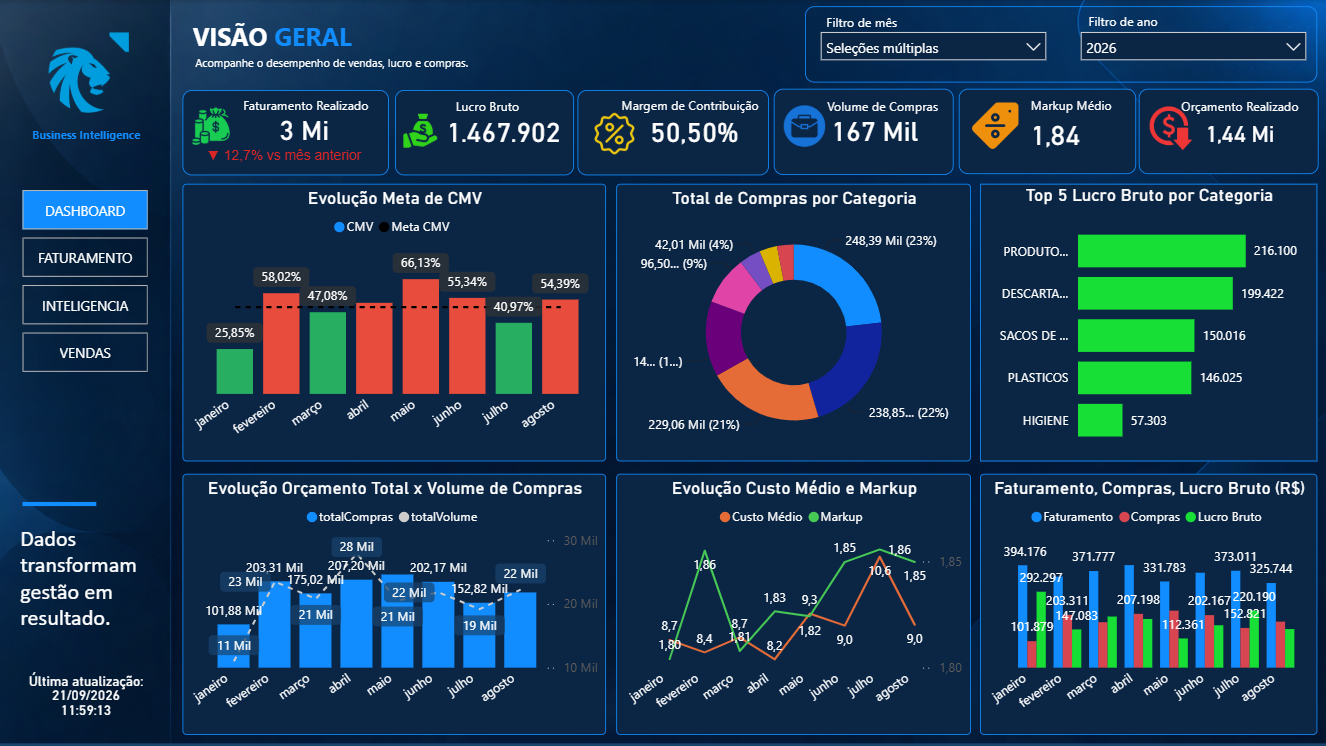

The page's visual inventory and layout, read from the dashboard file:
{"tool":"powerbi","page":{"name":"DASHBOARD","canvas":[1280,720],"ordinal":0},"visuals":[{"type":"textbox","box":[776.9,5.8,494.6,73.6],"z":0},{"type":"textbox","box":[1099.3,85.7,173.7,82],"z":1000},{"type":"textbox","box":[746.2,85.7,173.7,83.2],"z":2000},{"type":"card","title":"Volume (Kg)","fields":{"Values":["medidasCompras.totalVolume"]},"box":[760.2,102.3,168.9,47.1],"z":3000},{"type":"image","box":[755.9,93.1,39.8,57.9],"z":4000},{"type":"textbox","box":[780,88.1,146,36.2],"z":5000},{"type":"textbox","box":[176.1,86.9,199.1,82],"z":6000},{"type":"card","title":"Total Spent","fields":{"Values":["medidasCompras.totalCompras"]},"box":[1130.6,101.3,132.7,55.5],"z":7000},{"type":"textbox","box":[1130.6,88.1,132.7,36.2],"z":8000},{"type":"lineClusteredColumnComboChart","title":"Evolução Meta de CMV","fields":{"Category":["Calendario.Nome do Mês"],"Y":["medidasResultado.CMV"],"Y2":["medidasResultado.Meta CMV"]},"box":[176.1,177.3,409,267.8],"z":9000},{"type":"lineClusteredColumnComboChart","title":"Evolução Orçamento Total x Volume de Compras","fields":{"Category":["Calendario.Nome do Mês"],"Y":["medidasCompras.totalCompras"],"Y2":["medidasCompras.totalVolume"]},"box":[176.1,457.2,409,252.1],"z":10000},{"type":"lineChart","title":"Evolução Custo Médio e Markup","fields":{"Category":["Calendario.Nome do Mês"],"Y":["medidasCompras.preçoMedioCompra"],"Y2":["medidasCompras.markup"]},"box":[594.8,457.2,342.6,252.1],"z":11000},{"type":"donutChart","title":"Total de Compras por Categoria","fields":{"Category":["Compras.Categoria"],"Y":["medidasCompras.totalCompras"]},"box":[594.8,177.3,342.6,267.8],"z":12000},{"type":"card","title":"Total Spent","fields":{"Values":["medidasFaturamento.faturamentoLiquido"]},"box":[212.2,96,163,56.4],"z":13000},{"type":"textbox","box":[208.1,86.3,173,32.6],"z":14000},{"type":"image","box":[1100.5,101.3,59.1,44.6],"z":15000},{"type":"textbox","box":[924.8,85.7,171.3,82],"z":16000},{"type":"card","title":"Total Spent","fields":{"Values":["medidasCompras.markup"]},"box":[937.6,106.2,162.9,45.8],"z":17000},{"type":"textbox","box":[973.1,86.9,120.6,36.2],"z":18000},{"type":"image","box":[932.1,98.9,55.5,44.6],"z":19000},{"type":"textbox","box":[381.2,86.9,172.5,82],"z":20000},{"type":"card","title":"Total de Fornecedores","fields":{"Values":["medidasResultado.margemContribuiçao"]},"box":[418.8,101.3,135.1,50.7],"z":21000},{"type":"textbox","box":[401.9,88.4,137.5,35],"z":22000},{"type":"textbox","box":[557.7,87.2,184.6,82],"z":23000},{"type":"card","title":"Volume (Kg)","fields":{"Values":["medidasResultado.percentContribuicao"]},"box":[594.4,99.2,150.8,55.5],"z":24000},{"type":"image","box":[572.7,100.4,39.8,57.9],"z":25000},{"type":"textbox","box":[593.8,86.3,148.4,36.2],"z":26000},{"type":"image","box":[176.1,103.8,55.5,36.2],"z":27000},{"type":"card","title":"Total Spent","fields":{"Values":["medidasFaturamento.Card Crescimento Faturamento"]},"box":[173.1,136.2,203.1,31.3],"z":28000},{"type":"image","box":[381.2,109.8,48.3,32.6],"z":29000},{"type":"textbox","box":[181,14.5,220.8,53.1],"z":30000},{"type":"textbox","box":[183.4,45.8,287.1,39.8],"z":31000},{"type":"clusteredBarChart","title":"Top 5 Lucro Bruto por Categoria","fields":{"Category":["Faturamento.Categoria"],"Y":["Sum(Faturamento.LucroLinha)"]},"box":[945.8,177.3,325.7,267.8],"z":32000},{"type":"clusteredColumnChart","title":"Faturamento, Compras, Lucro Bruto (R$)","fields":{"Category":["Calendario.Nome do Mês"],"Y":["medidasFaturamento.faturamentoLiquido","medidasCompras.totalCompras","medidasResultado.margemContribuiçao"]},"box":[945.8,457.2,325.7,252.1],"z":33000},{"type":"slicer","fields":{"Values":["Calendario.Ano"]},"box":[1032.7,20.3,238.2,49.2],"z":34000},{"type":"slicer","fields":{"Values":["Calendario.Nome do Mês"]},"box":[781.8,20.3,238.2,49.2],"z":35000},{"type":"textbox","box":[776.9,7,109.8,37.4],"z":36000},{"type":"textbox","box":[1029.1,5.8,109.8,37.4],"z":37000},{"type":"textbox","box":[19.3,114.6,127.9,39.8],"z":39000},{"type":"pageNavigator","box":[22,183.4,121.9,38.6],"z":40000},{"type":"pageNavigator","box":[22,229.2,121.9,38.6],"z":41000},{"type":"pageNavigator","box":[22,275.1,121.9,38.6],"z":42000},{"type":"pageNavigator","box":[22,320.9,121.9,38.6],"z":43000},{"type":"card","title":"Volume (Kg)","fields":{"Values":["medidasClientes.Última Atualização"]},"box":[21.7,627.3,123.1,91.7],"z":44000},{"type":"image","box":[12.1,3.6,147.2,132.7],"z":44001},{"type":"textbox","box":[14.5,501.9,153,116],"z":44002},{"type":"shape","box":[21.7,470.5,71.4,31.9],"z":44003}]}

Visuals, with their boxes in screenshot pixels (x1, y1, x2, y2), scaled from the page's 1280x720 canvas onto the 1326x746 screenshot:
textbox: (left=805, top=6, right=1317, bottom=82)
textbox: (left=1139, top=89, right=1319, bottom=174)
textbox: (left=773, top=89, right=953, bottom=175)
"Volume (Kg)" card: (left=788, top=106, right=962, bottom=155)
image: (left=783, top=96, right=824, bottom=156)
textbox: (left=808, top=91, right=959, bottom=129)
textbox: (left=182, top=90, right=389, bottom=175)
"Total Spent" card: (left=1171, top=105, right=1309, bottom=162)
textbox: (left=1171, top=91, right=1309, bottom=129)
"Evolução Meta de CMV" lineClusteredColumnComboChart: (left=182, top=184, right=606, bottom=461)
"Evolução Orçamento Total x Volume de Compras" lineClusteredColumnComboChart: (left=182, top=474, right=606, bottom=735)
"Evolução Custo Médio e Markup" lineChart: (left=616, top=474, right=971, bottom=735)
"Total de Compras por Categoria" donutChart: (left=616, top=184, right=971, bottom=461)
"Total Spent" card: (left=220, top=99, right=389, bottom=158)
textbox: (left=216, top=89, right=395, bottom=123)
image: (left=1140, top=105, right=1201, bottom=151)
textbox: (left=958, top=89, right=1135, bottom=174)
"Total Spent" card: (left=971, top=110, right=1140, bottom=157)
textbox: (left=1008, top=90, right=1133, bottom=128)
image: (left=966, top=102, right=1023, bottom=149)
textbox: (left=395, top=90, right=574, bottom=175)
"Total de Fornecedores" card: (left=434, top=105, right=574, bottom=157)
textbox: (left=416, top=92, right=559, bottom=128)
textbox: (left=578, top=90, right=769, bottom=175)
"Volume (Kg)" card: (left=616, top=103, right=772, bottom=160)
image: (left=593, top=104, right=635, bottom=164)
textbox: (left=615, top=89, right=769, bottom=127)
image: (left=182, top=108, right=240, bottom=145)
"Total Spent" card: (left=179, top=141, right=390, bottom=174)
image: (left=395, top=114, right=445, bottom=148)
textbox: (left=188, top=15, right=416, bottom=70)
textbox: (left=190, top=47, right=487, bottom=89)
"Top 5 Lucro Bruto por Categoria" clusteredBarChart: (left=980, top=184, right=1317, bottom=461)
"Faturamento, Compras, Lucro Bruto (R$)" clusteredColumnChart: (left=980, top=474, right=1317, bottom=735)
slicer - Calendario.Ano: (left=1070, top=21, right=1317, bottom=72)
slicer - Calendario.Nome do Mês: (left=810, top=21, right=1057, bottom=72)
textbox: (left=805, top=7, right=919, bottom=46)
textbox: (left=1066, top=6, right=1180, bottom=45)
textbox: (left=20, top=119, right=152, bottom=160)
pageNavigator: (left=23, top=190, right=149, bottom=230)
pageNavigator: (left=23, top=237, right=149, bottom=277)
pageNavigator: (left=23, top=285, right=149, bottom=325)
pageNavigator: (left=23, top=332, right=149, bottom=372)
"Volume (Kg)" card: (left=22, top=650, right=150, bottom=745)
image: (left=13, top=4, right=165, bottom=141)
textbox: (left=15, top=520, right=174, bottom=640)
shape: (left=22, top=487, right=96, bottom=521)
